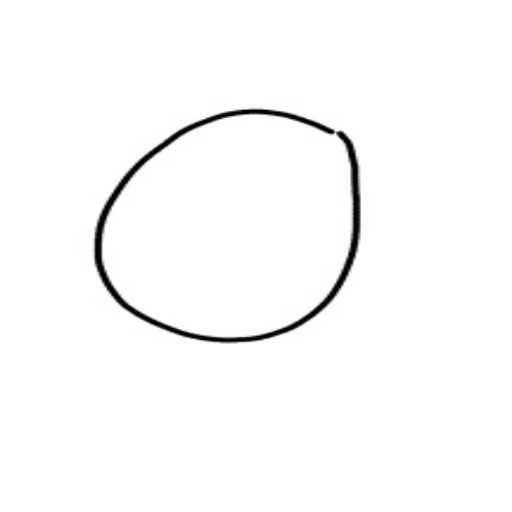circle: (89, 100, 375, 353)
